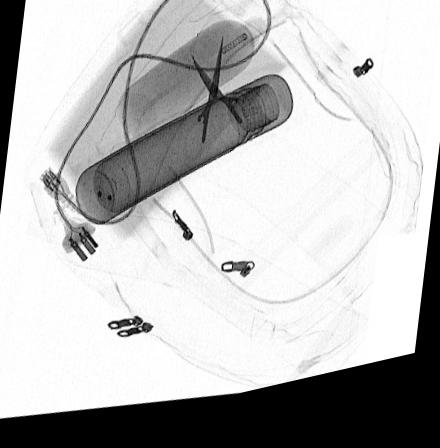Scissors: (178, 47, 268, 165)
